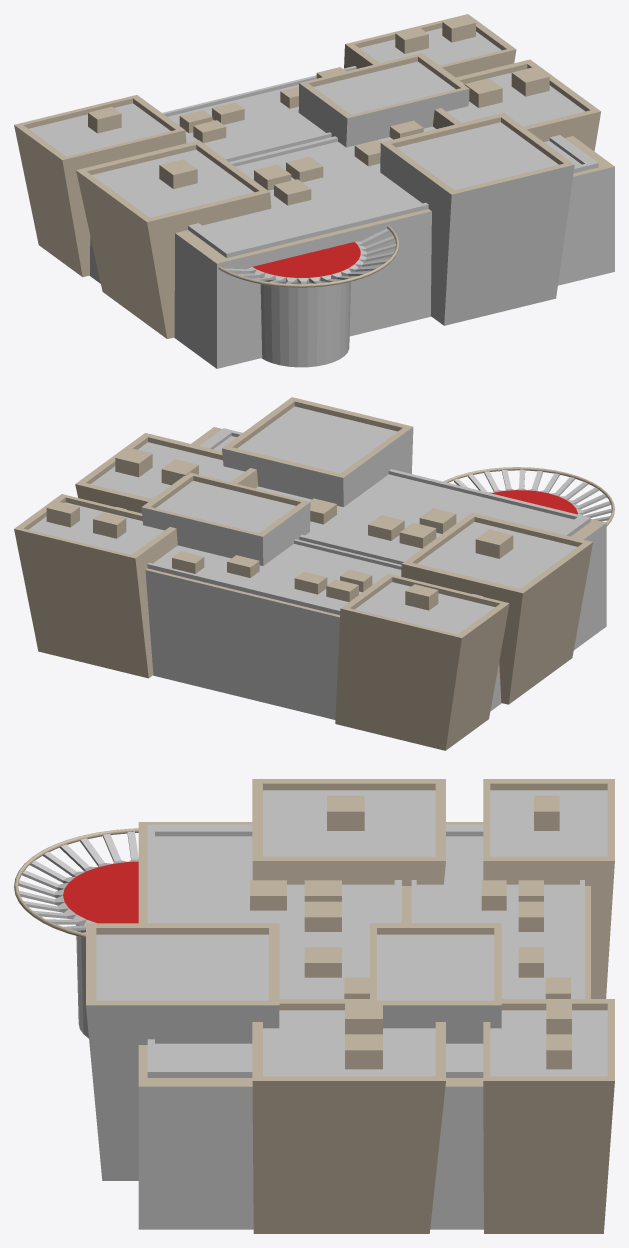
File: bulding3.fbx
The picture shows the model from 3 angles, top to bottom: view 1: azimuth 30°, elevation 25°; view 2: azimuth 150°, elevation 25°; view 3: azimuth 270°, elevation 25°; orthographic projection. The views are drawn at different scales.
Visible parts, largest first — view 1: cinema; view 2: cinema; view 3: cinema.
Boxes of the visible parts, bbox=[...] form: cinema: bbox=[14, 14, 614, 368]; cinema: bbox=[14, 397, 614, 750]; cinema: bbox=[14, 779, 614, 1233].
Bounding box in the file's own units: 374 × 108 × 315.
